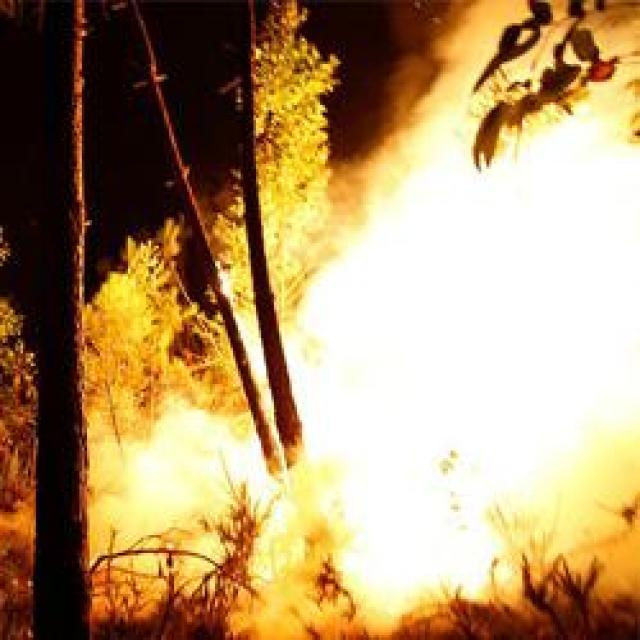Fire: (135, 24, 640, 620)
